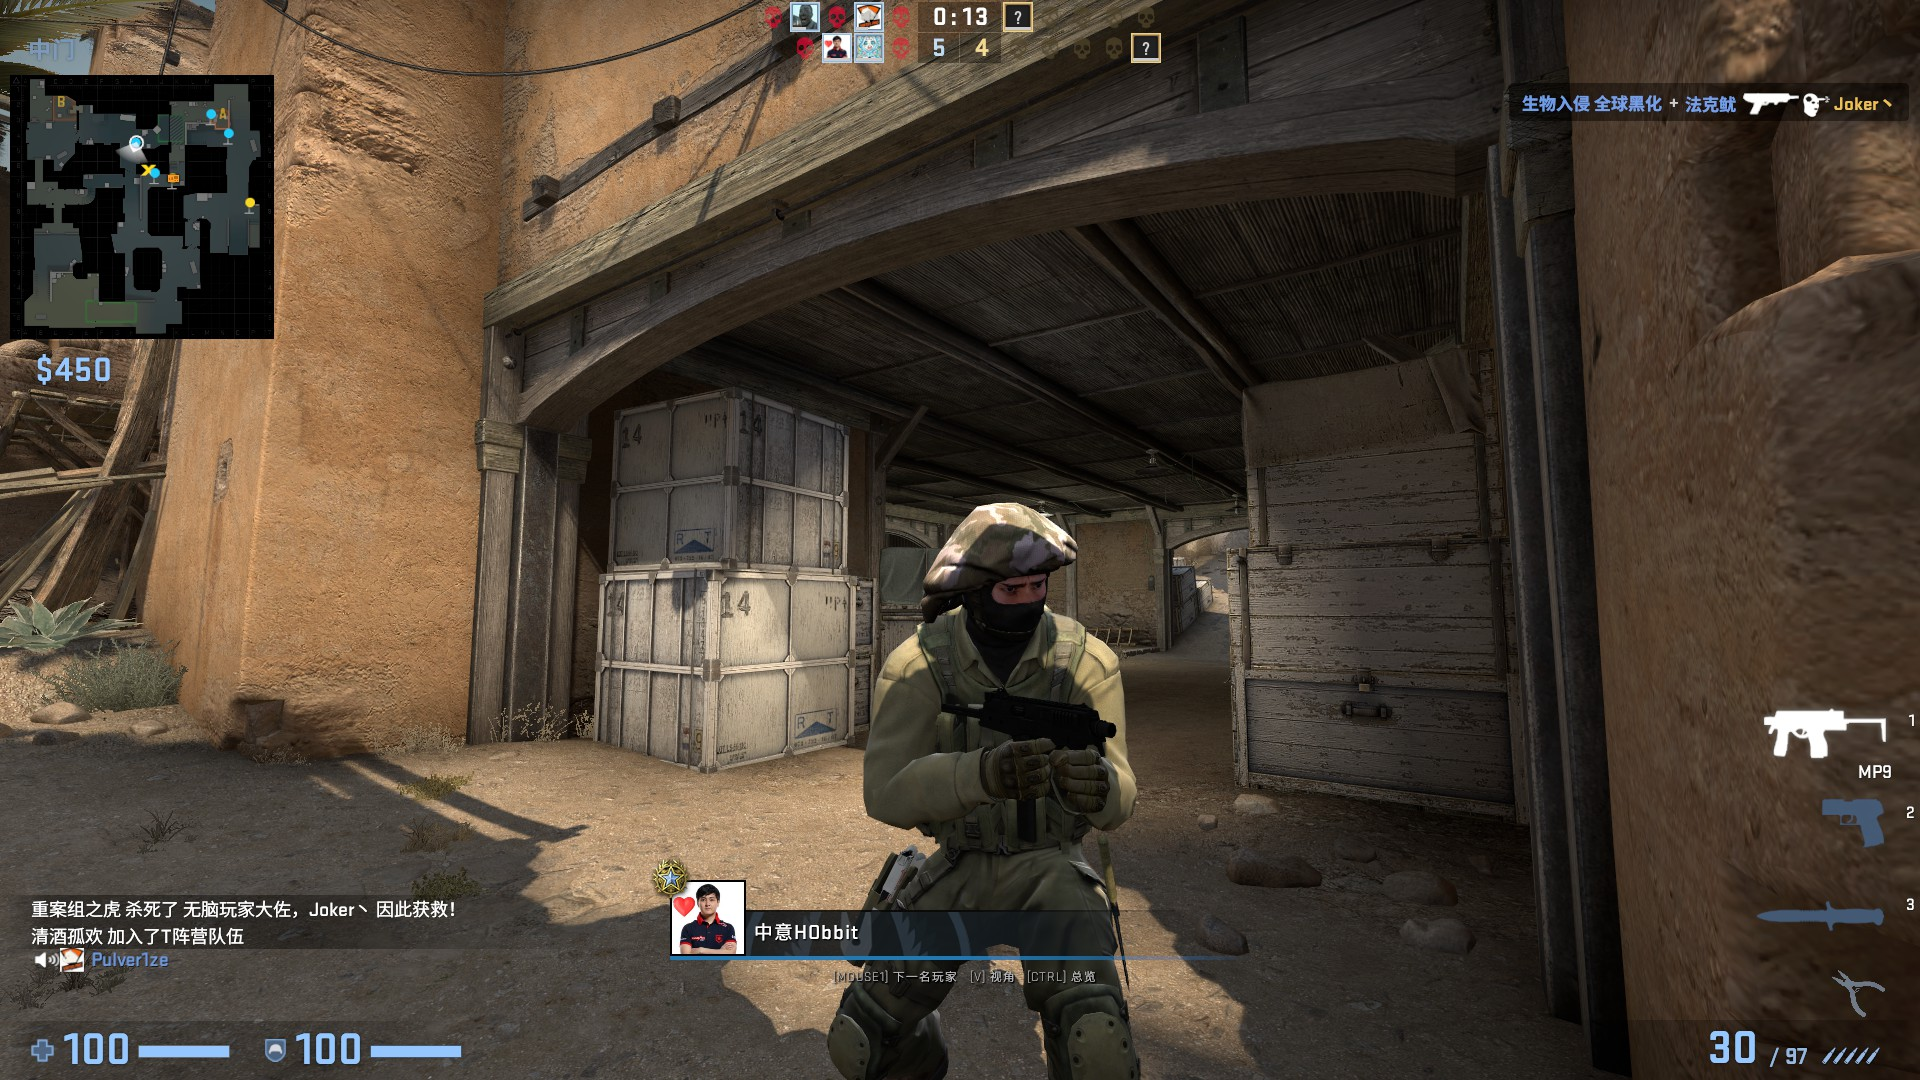head: (930, 504, 1071, 642)
